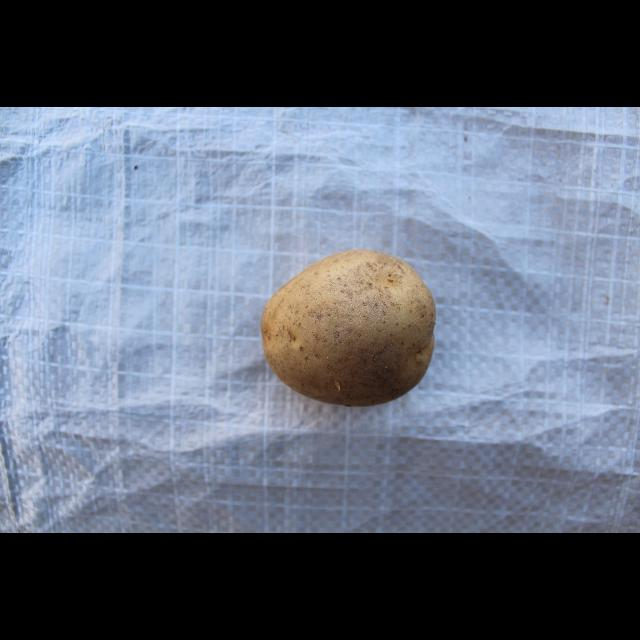Diseased-fungal potato: (253, 244, 444, 408)
